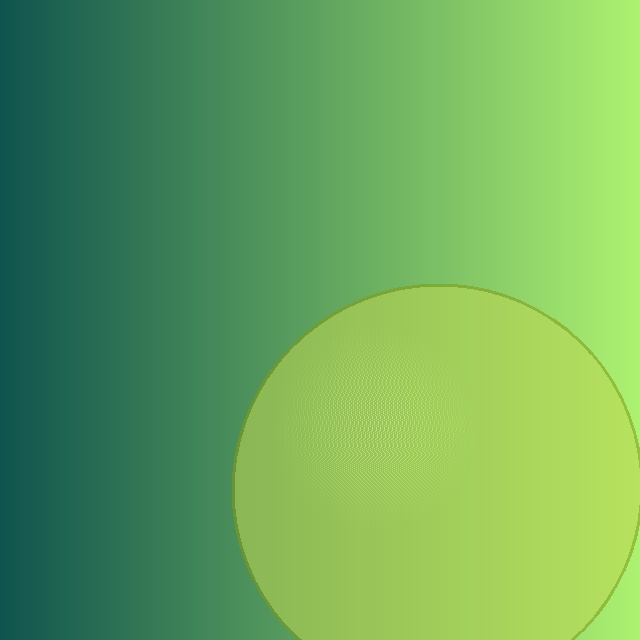lens: (233, 285, 640, 640)
